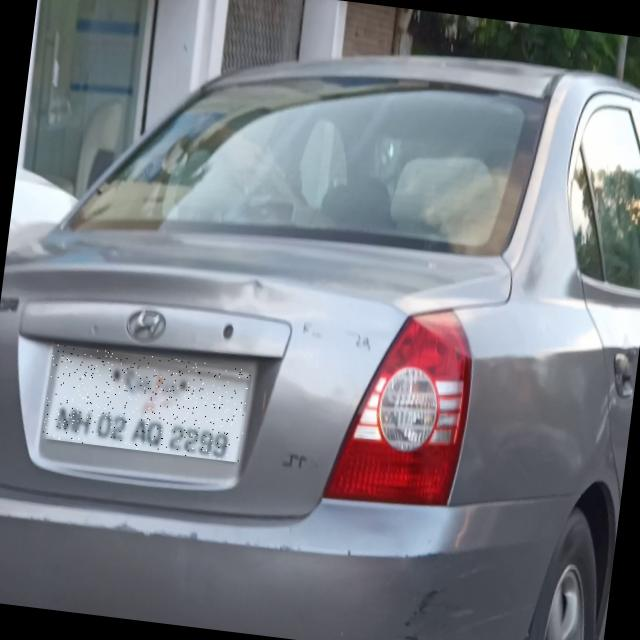Plate: (43, 345, 252, 464)
